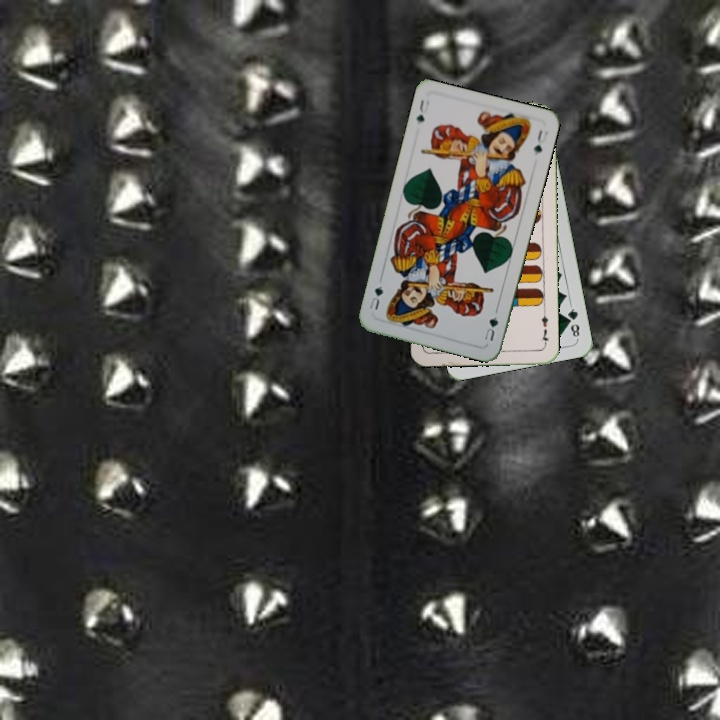E7: (537, 308, 551, 348)
G8: (563, 301, 582, 341)
GU: (480, 306, 501, 344), (412, 95, 432, 125)
